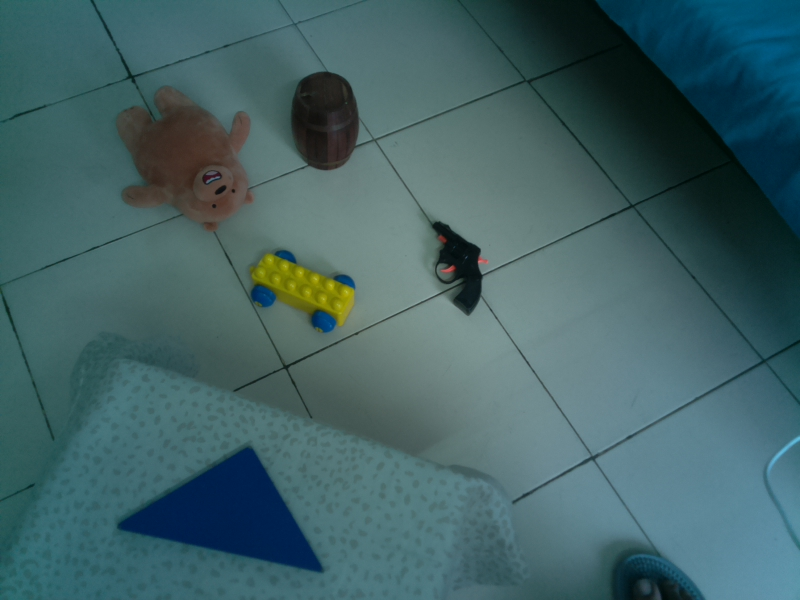Gun: (427, 218, 493, 319)
Triangle: (114, 444, 331, 576)
toy_Car: (248, 248, 359, 336)
